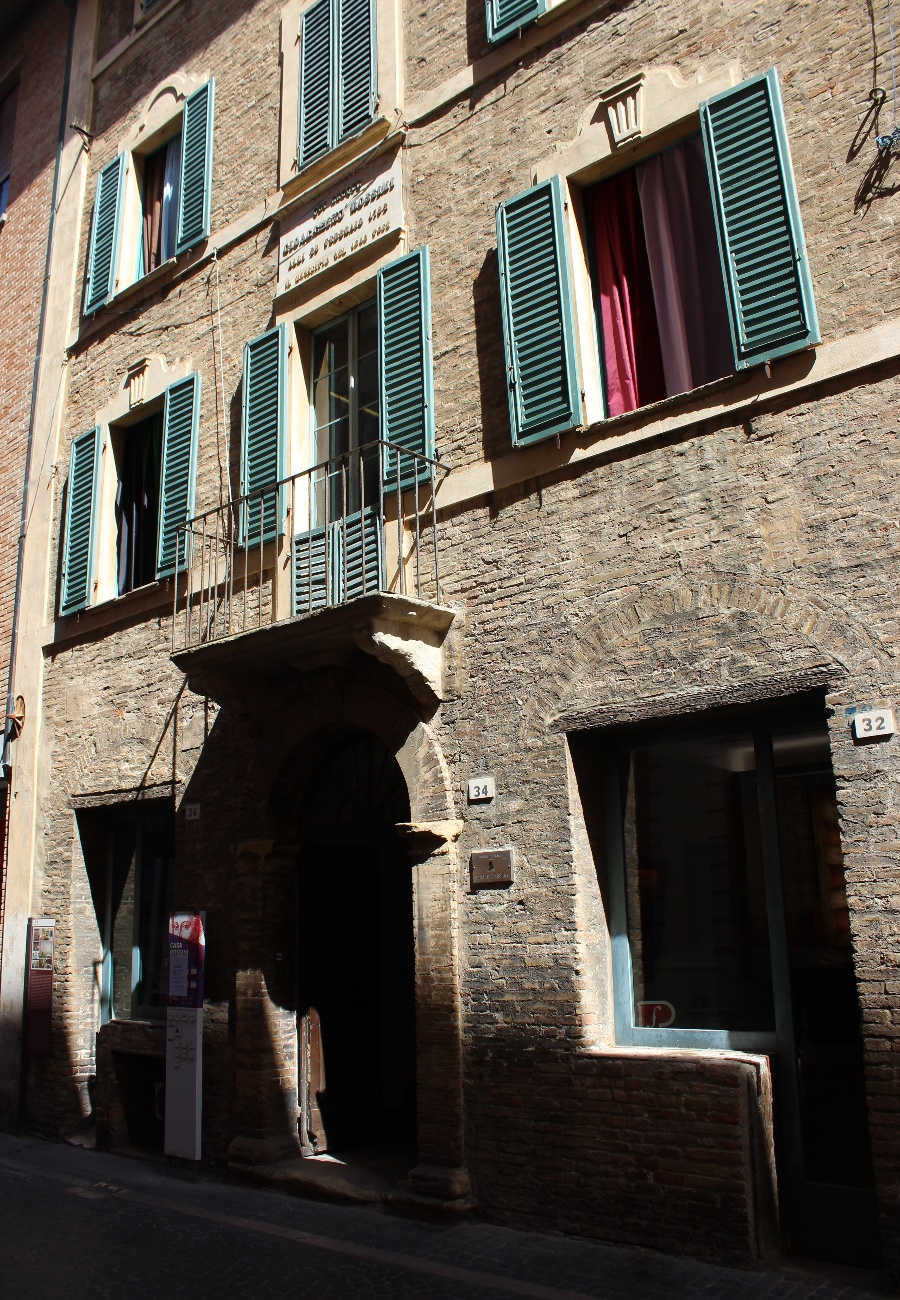Casa Rossini: (34, 4, 900, 1300)
